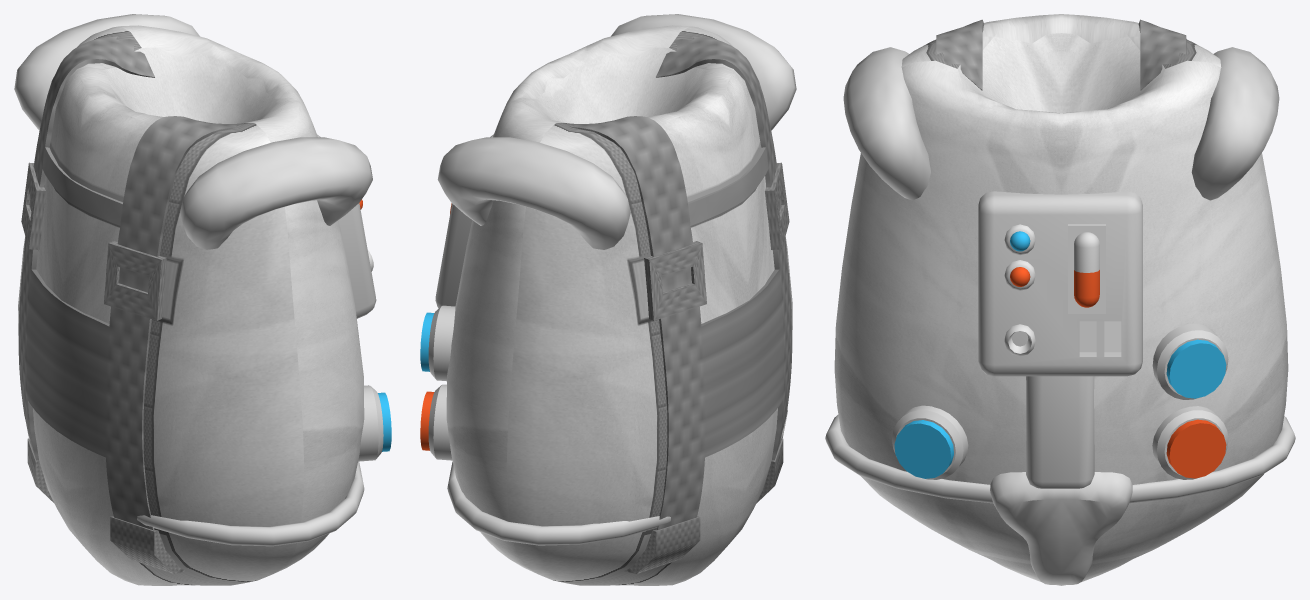
Rendered from human1.obj.
The picture shows the model from 3 angles, left to right: view 1: azimuth 30°, elevation 25°; view 2: azimuth 150°, elevation 25°; view 3: azimuth 270°, elevation 25°; orthographic projection.
Parts seen in each view (by area): view 1: Body.subdiv.x1_111.011, Straps_2_Cube, Right_armlet_111.024, Buckles_Cube.001, Ring_111.022, Cube_Cube.002, Front_panel_body_111.036, Right_bot_pipe.002_111.015, Right_bot_pipe.003_111.016; view 2: Body.subdiv.x1_111.011, Straps_2_Cube, Right_armlet_111.024, Buckles_Cube.001, Ring_111.022, Cube_Cube.002, Front_panel_body_111.036, Left_mid_pipe.002_111.039, Left_bot_pipe.002_111.044, Left_mid_pipe.003_111.040, Left_bot_pipe.003_111.045; view 3: Body.subdiv.x1_111.011, Front_panel_body_111.036, Right_armlet_111.024, something_111.021, Bridge_front_111.020, Ring_111.022, Straps_2_Cube, Right_bot_pipe.003_111.016, Left_mid_pipe.003_111.040, Left_bot_pipe.003_111.045, Left_mid_pipe.002_111.039, Tube_all_111.031 (+4 smaller).
Part boxes in pixels (left/top/right/bottom): Body.subdiv.x1_111.011: left=18, top=25, right=364, bottom=585; Straps_2_Cube: left=18, top=36, right=249, bottom=529; Right_armlet_111.024: left=14, top=14, right=372, bottom=249; Buckles_Cube.001: left=21, top=162, right=166, bottom=320; Ring_111.022: left=26, top=423, right=364, bottom=546; Cube_Cube.002: left=27, top=438, right=186, bottom=573; Front_panel_body_111.036: left=317, top=134, right=376, bottom=318; Right_bot_pipe.002_111.015: left=358, top=385, right=383, bottom=461; Right_bot_pipe.003_111.016: left=378, top=392, right=391, bottom=451; Body.subdiv.x1_111.011: left=446, top=25, right=792, bottom=585; Straps_2_Cube: left=561, top=36, right=792, bottom=529; Right_armlet_111.024: left=437, top=14, right=796, bottom=249; Buckles_Cube.001: left=644, top=162, right=789, bottom=320; Ring_111.022: left=447, top=409, right=787, bottom=545; Cube_Cube.002: left=624, top=438, right=783, bottom=573; Front_panel_body_111.036: left=435, top=134, right=493, bottom=308; Left_mid_pipe.002_111.039: left=428, top=305, right=455, bottom=381; Left_bot_pipe.002_111.044: left=428, top=384, right=452, bottom=460; Left_mid_pipe.003_111.040: left=420, top=312, right=434, bottom=371; Left_bot_pipe.003_111.045: left=420, top=391, right=434, bottom=450; Body.subdiv.x1_111.011: left=834, top=14, right=1288, bottom=585; Front_panel_body_111.036: left=978, top=191, right=1142, bottom=376; Right_armlet_111.024: left=843, top=47, right=1279, bottom=200; something_111.021: left=990, top=472, right=1132, bottom=584; Bridge_front_111.020: left=1026, top=376, right=1094, bottom=488; Ring_111.022: left=825, top=415, right=1295, bottom=503; Straps_2_Cube: left=936, top=19, right=1186, bottom=90; Right_bot_pipe.003_111.016: left=894, top=420, right=953, bottom=478; Left_mid_pipe.003_111.040: left=1166, top=339, right=1226, bottom=398; Left_bot_pipe.003_111.045: left=1166, top=419, right=1226, bottom=478; Left_mid_pipe.002_111.039: left=1152, top=323, right=1228, bottom=399; Tube_all_111.031: left=1074, top=232, right=1099, bottom=307.
Bounding box in the file's own units: 2.12 × 3.46 × 2.92.
